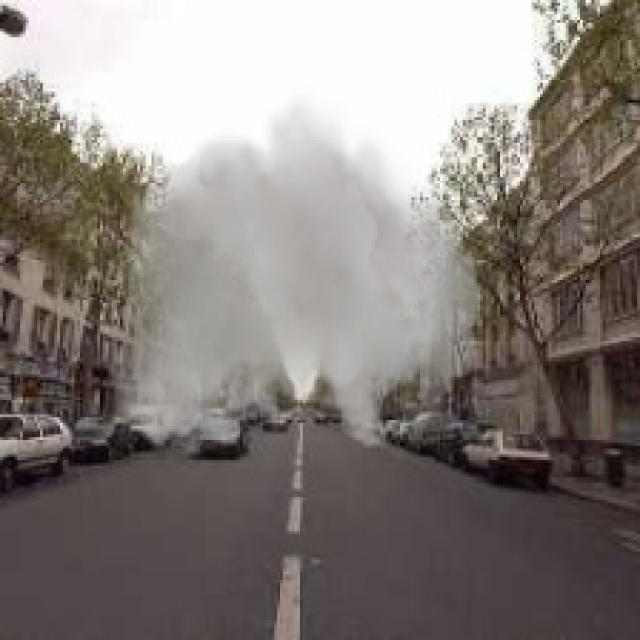Smoke: (108, 86, 480, 460)
